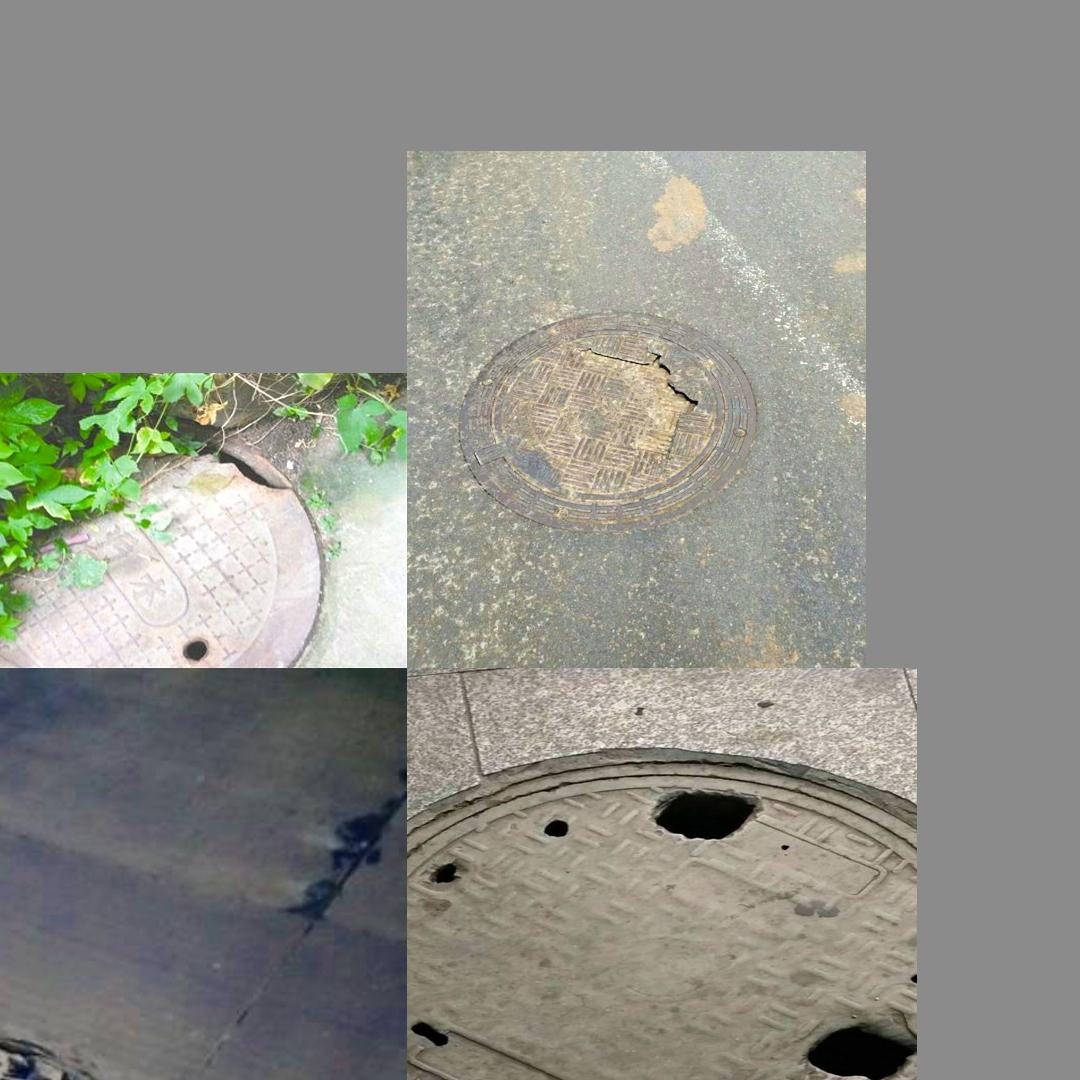broke: (408, 746, 914, 1080), (0, 425, 354, 668), (461, 301, 752, 524), (0, 1003, 184, 1080)
